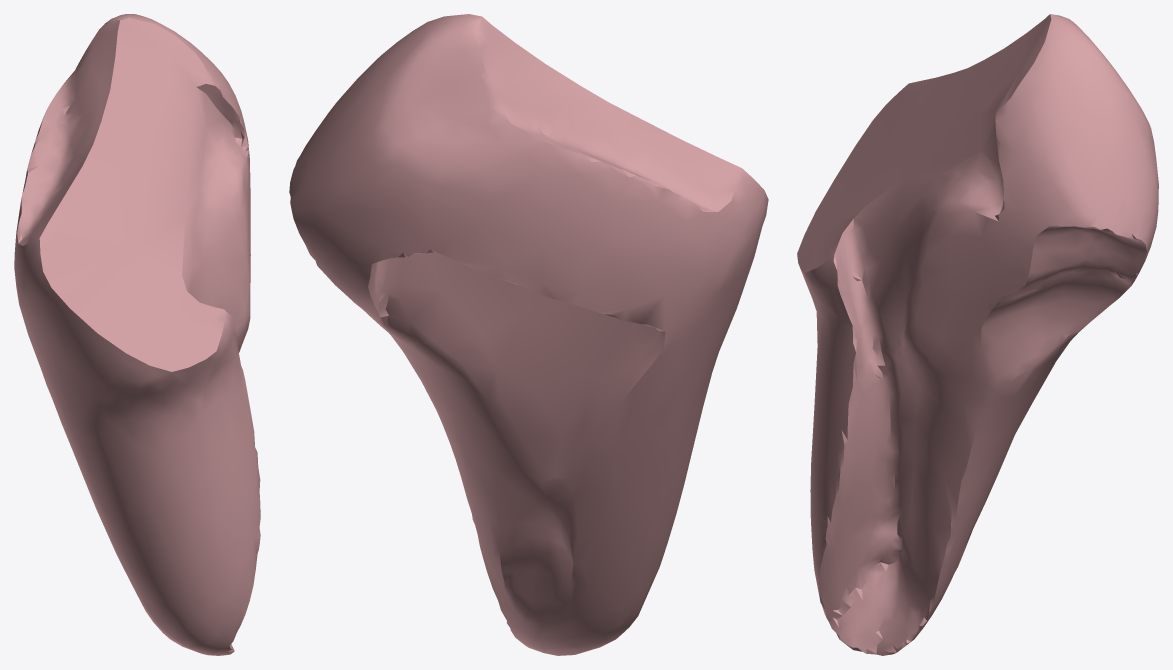
File: fma75309-r_mm2142m.glb
The picture shows the model from 3 angles, left to right: view 1: azimuth 30°, elevation 25°; view 2: azimuth 150°, elevation 25°; view 3: azimuth 270°, elevation 25°; orthographic projection. The views are drawn at different scales.
Parts seen in each view (by area): view 1: FMA75309-R_MM2142M; view 2: FMA75309-R_MM2142M; view 3: FMA75309-R_MM2142M.
Boxes of the visible parts, bbox=[...] form: FMA75309-R_MM2142M: bbox=[14, 14, 260, 655]; FMA75309-R_MM2142M: bbox=[289, 14, 768, 655]; FMA75309-R_MM2142M: bbox=[797, 14, 1158, 655].
Size of the model in its own units: 0.0144 by 0.0278 by 0.0145.
